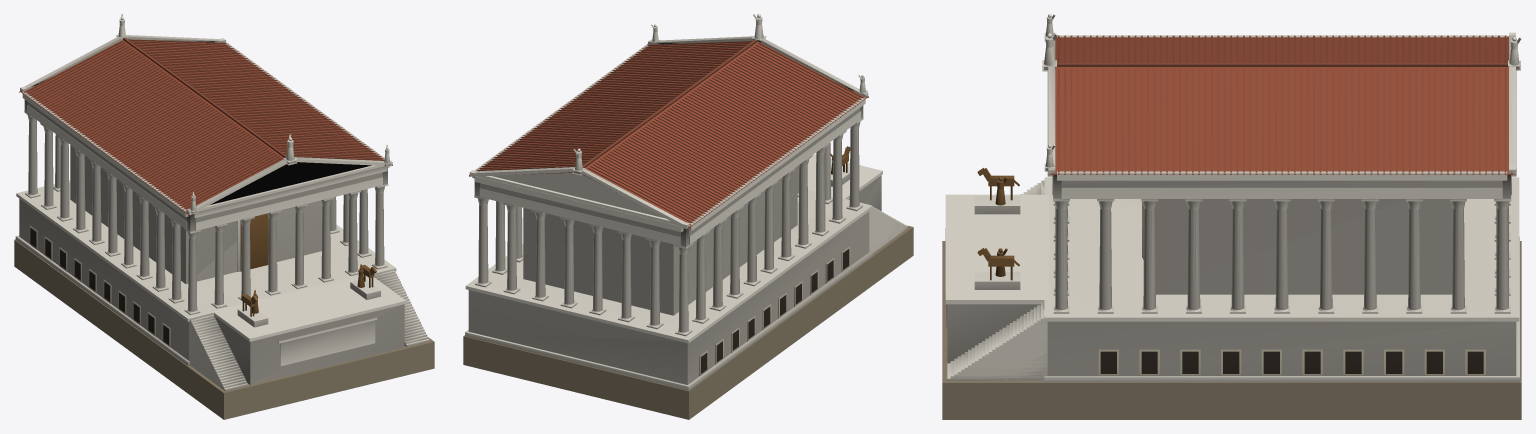
Rendered from rome_castor.glb.
3 views of the same model, side by side, from view 1: azimuth 30°, elevation 25°; view 2: azimuth 150°, elevation 25°; view 3: azimuth 270°, elevation 25° (orthographic). The views are drawn at different scales.
Visible parts, largest first — view 1: rome_castor; view 2: rome_castor; view 3: rome_castor.
Boxes of the visible parts, x1,y1,x2,y2 form: rome_castor: [14, 14, 434, 419]; rome_castor: [463, 14, 913, 419]; rome_castor: [942, 14, 1521, 419].
Bounding box in the file's own units: 33 × 34.31 × 56.88.
